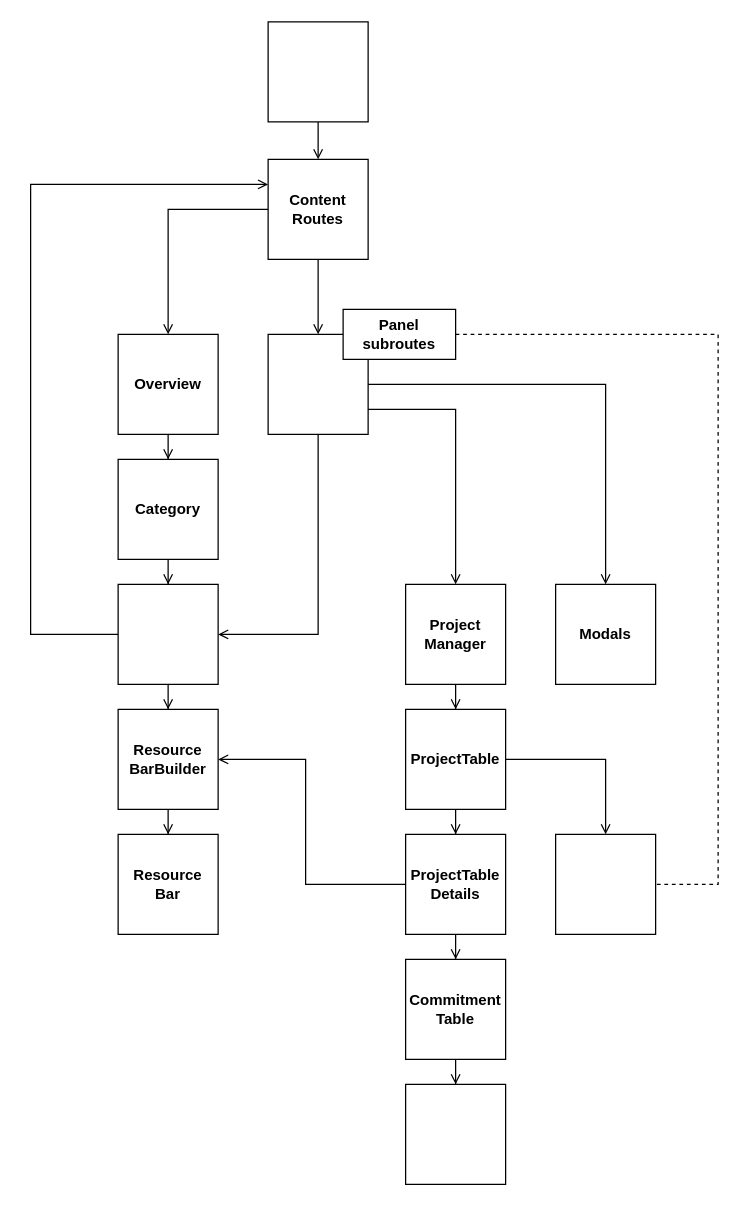
Some shapes in this 741 by 1206 pixel diagram are drawn without their labels. The shapes that lost their labels are listed below. From the top down, each one's centre as x and y in pixels, then its label:
At point 317,71: "Domain Content".
At point 317,383: "Panel".
At point 167,633: "Resource".
At point 605,883: "Project Quota Details".
At point 455,1133: "Commitment Table Details".
